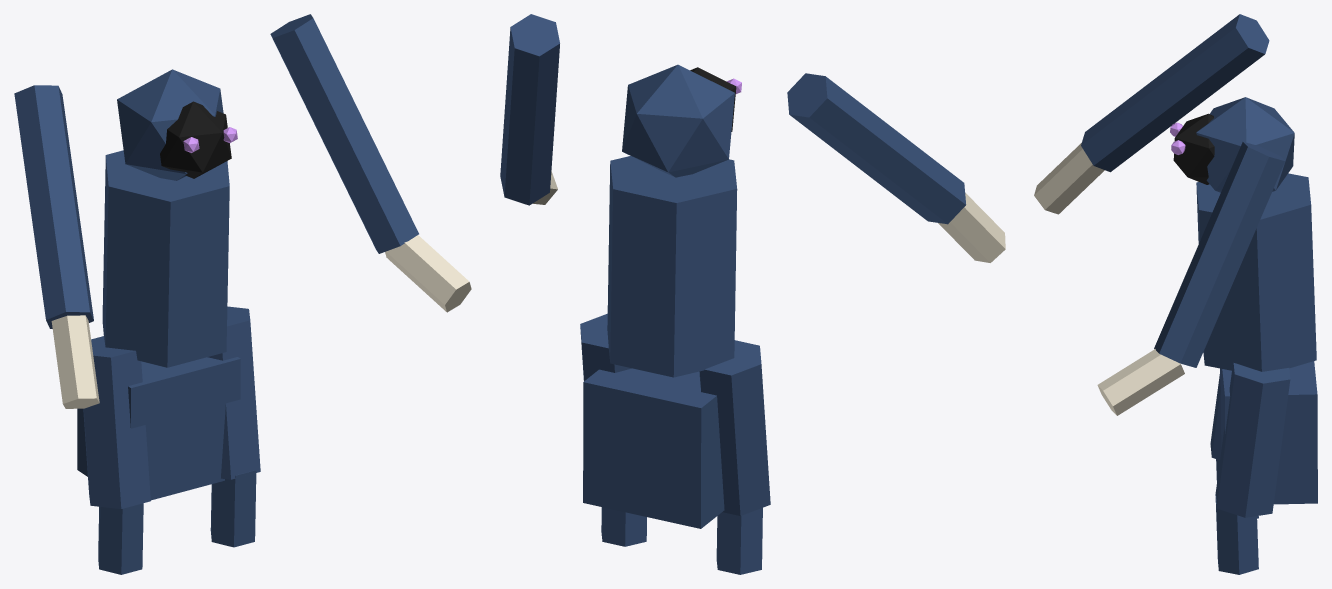
Rendered from npcpose_wraith_attack_09.glb.
The picture shows the model from 3 angles, left to right: view 1: azimuth 30°, elevation 25°; view 2: azimuth 150°, elevation 25°; view 3: azimuth 270°, elevation 25°; orthographic projection. The views are drawn at different scales.
Parts seen in each view (by area): view 1: npcpose; view 2: npcpose; view 3: npcpose.
Part boxes in pixels (left/top/right/bottom): npcpose: left=14, top=14, right=471, bottom=574; npcpose: left=500, top=14, right=1005, bottom=574; npcpose: left=1034, top=14, right=1317, bottom=574.
Bounding box in the file's own units: 1.02 × 1.1 × 0.6132.
